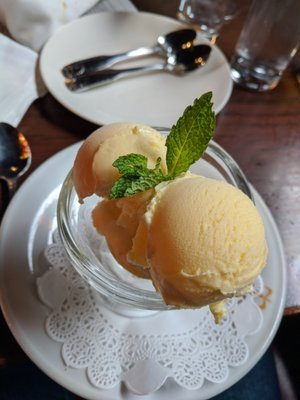curry: (109, 153, 170, 199)
pizza: (228, 0, 300, 93)
salad: (0, 121, 32, 222)
